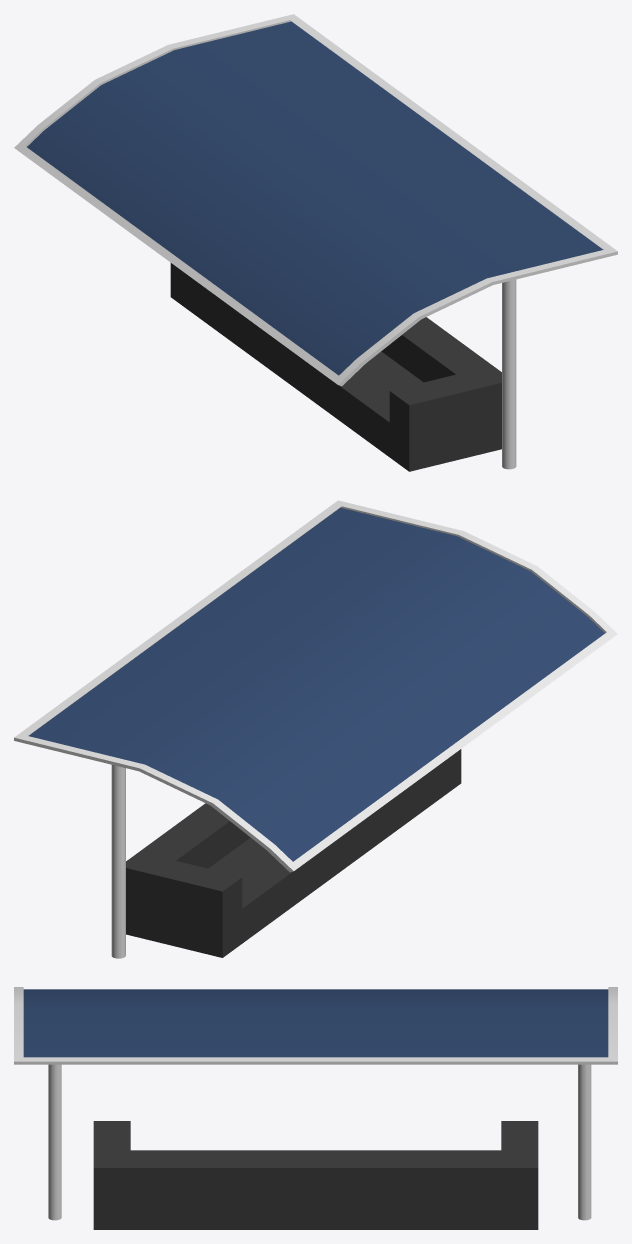
The model's file is EV shed.fbx.
3 renders of one model, top to bottom at view 1: azimuth 30°, elevation 25°; view 2: azimuth 150°, elevation 25°; view 3: azimuth 270°, elevation 25°, orthographic. The views are drawn at different scales.
Parts seen in each view (by area): view 1: Plane.001, Plane, Cylinder.001; view 2: Plane.001, Plane, Cylinder; view 3: Plane.001, Plane, Cylinder.001, Cylinder.
Boxes of the visible parts, x1,y1,x2,y2 form: Plane.001: (14, 14, 617, 386); Plane: (170, 263, 501, 471); Cylinder.001: (502, 279, 516, 469); Plane.001: (14, 500, 617, 872); Plane: (126, 749, 461, 957); Cylinder: (111, 765, 125, 958); Plane.001: (14, 987, 617, 1064); Plane: (93, 1121, 538, 1229); Cylinder.001: (48, 1064, 61, 1220); Cylinder: (578, 1064, 591, 1220).
Bounding box in the file's own units: 448 × 323 × 899.
